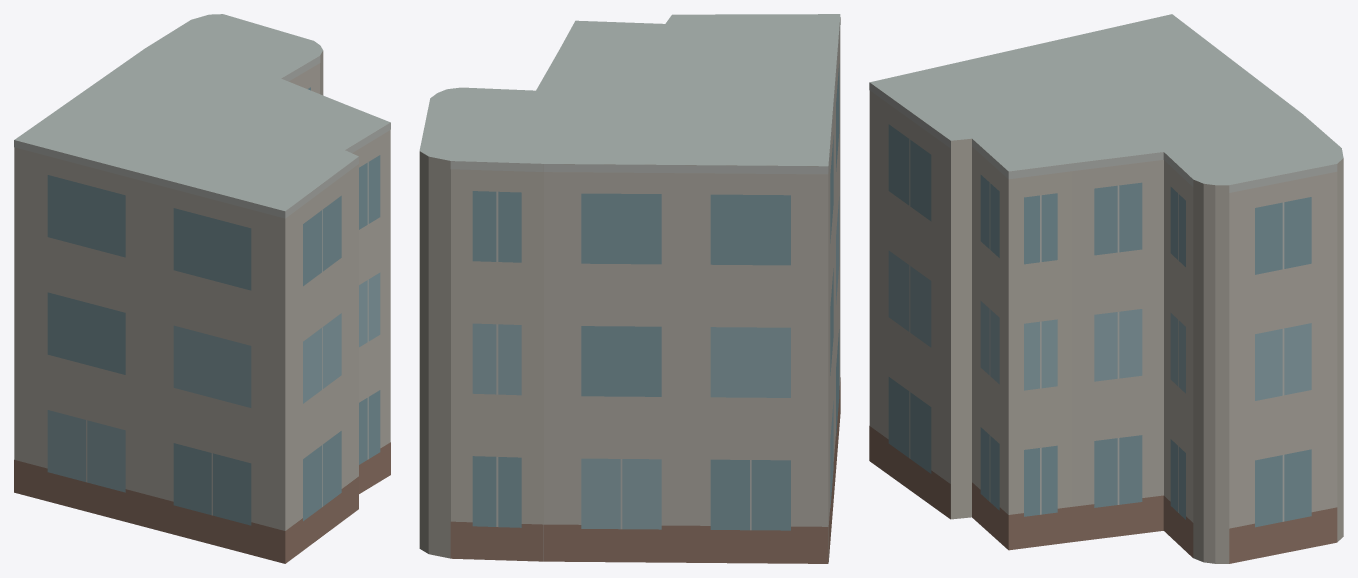
Rendered from survey-upis-32626367.glb.
3 renders of one model, left to right at view 1: azimuth 30°, elevation 25°; view 2: azimuth 150°, elevation 25°; view 3: azimuth 270°, elevation 25°, orthographic. The views are drawn at different scales.
Visible parts, largest first — view 1: survey-upis-32626367.tmp; view 2: survey-upis-32626367.tmp; view 3: survey-upis-32626367.tmp.
Boxes of the visible parts, <box> form: survey-upis-32626367.tmp: <box>14,14,390,563</box>; survey-upis-32626367.tmp: <box>419,14,840,563</box>; survey-upis-32626367.tmp: <box>869,14,1343,563</box>.
Bounding box in the file's own units: 11.45 × 11.8 × 13.39.
